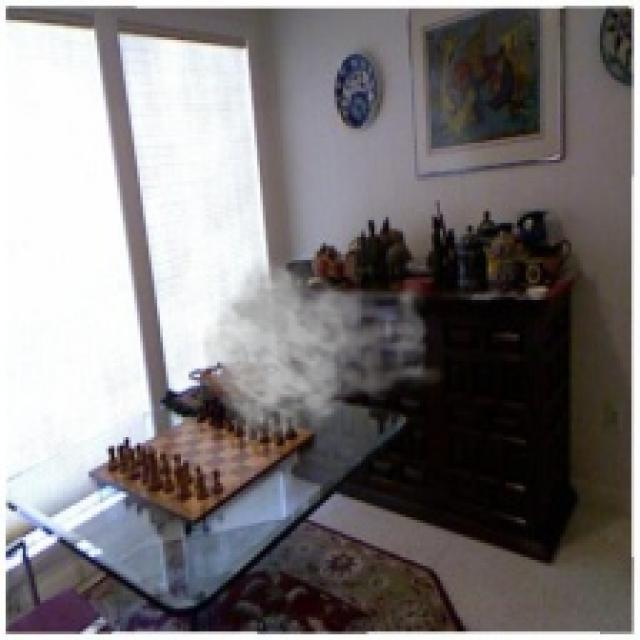Smoke: (200, 245, 446, 446)
